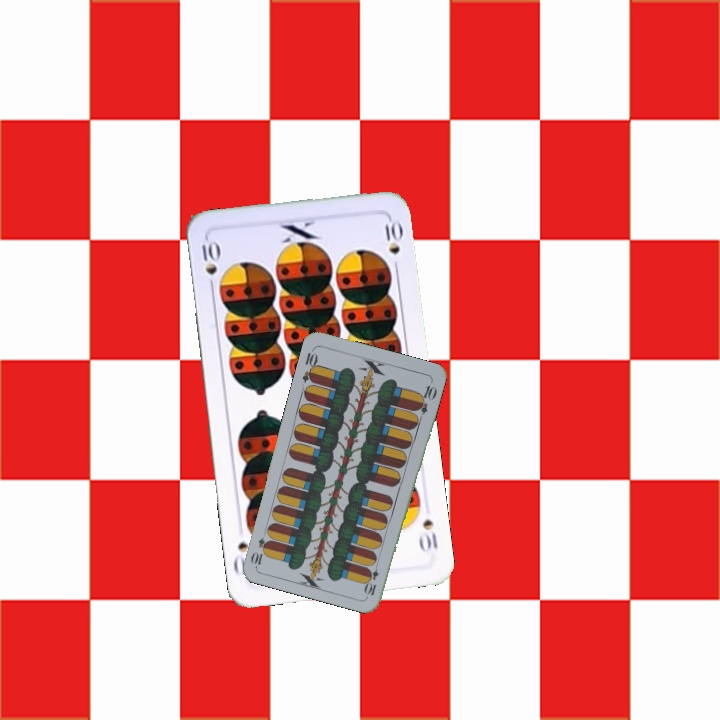E10: (298, 345, 320, 385), (362, 557, 381, 598)
S10: (196, 235, 221, 294), (416, 515, 441, 555)
